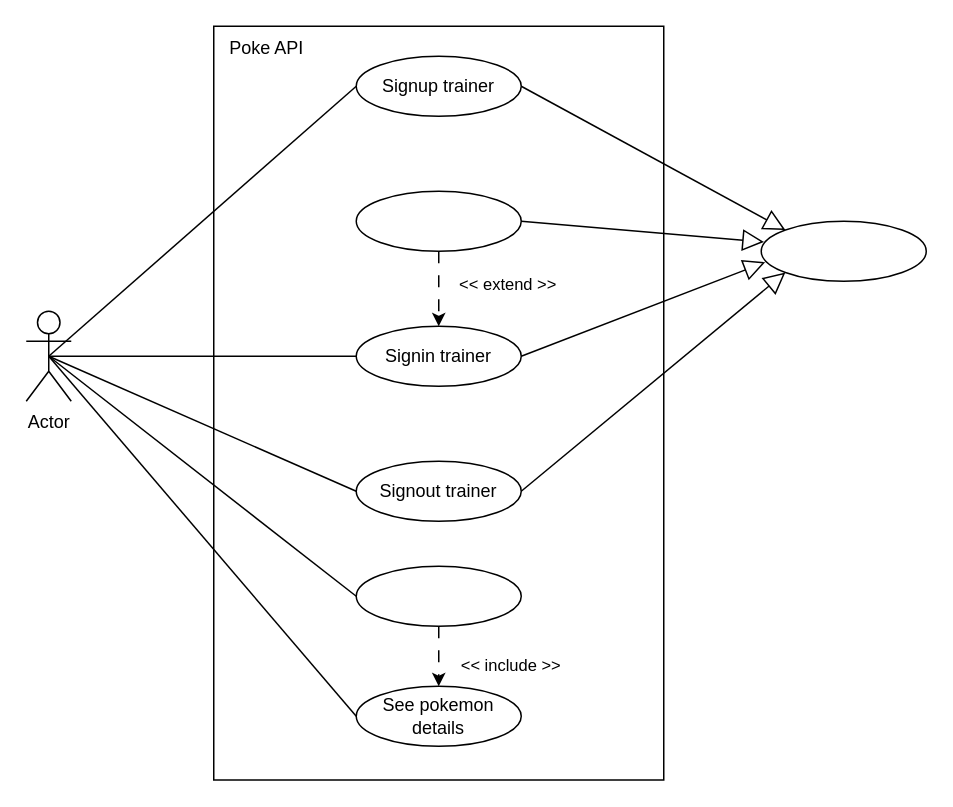
The diagram is 953 pixels wide and 807 high, and some of its shapes have lost their labels. The shapes that lost their labels are listed below. From the top down, each one's box as (x1, y1, x2, y2) in pixels, then its label:
(355, 190, 521, 251): See profile
(760, 220, 926, 281): Trainer
(355, 565, 521, 626): See all pokemons
